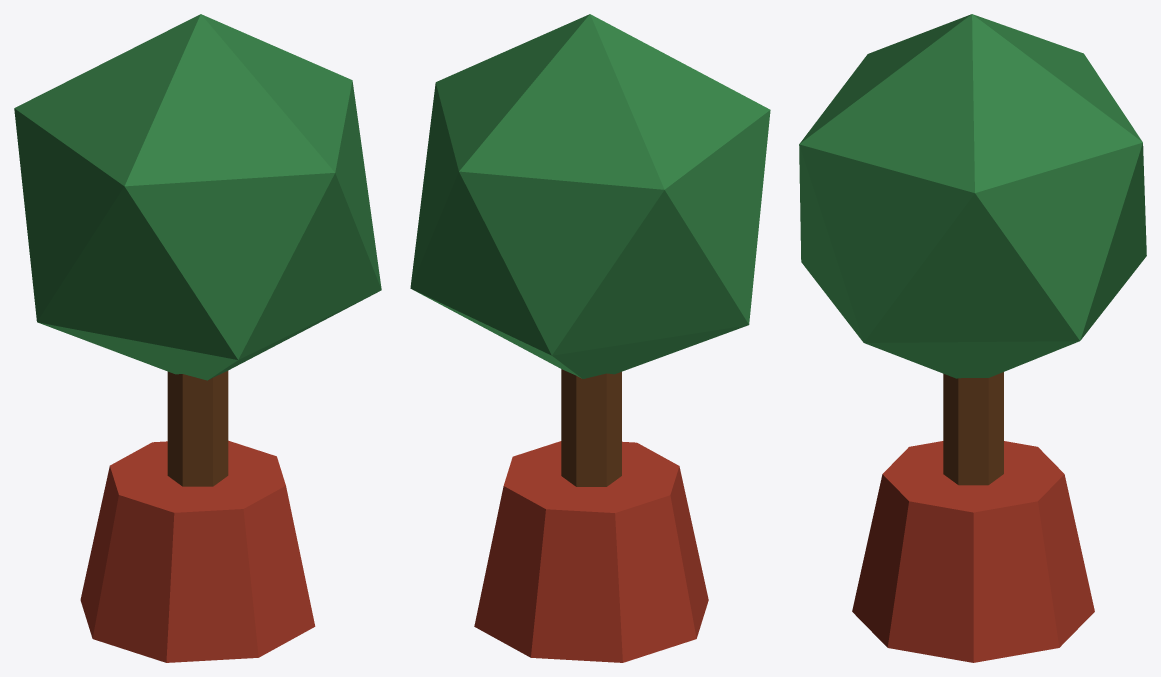
File: garden2_topiary_ball.glb
3 renders of one model, left to right at view 1: azimuth 30°, elevation 25°; view 2: azimuth 150°, elevation 25°; view 3: azimuth 270°, elevation 25°, orthographic.
Visible parts, largest first — view 1: topiary_ball; view 2: topiary_ball; view 3: topiary_ball.
Boxes of the visible parts, bbox=[...] form: topiary_ball: bbox=[14, 14, 381, 662]; topiary_ball: bbox=[410, 14, 770, 662]; topiary_ball: bbox=[799, 14, 1146, 662].
Size of the model in its own units: 0.3587 by 0.6527 by 0.3435.
